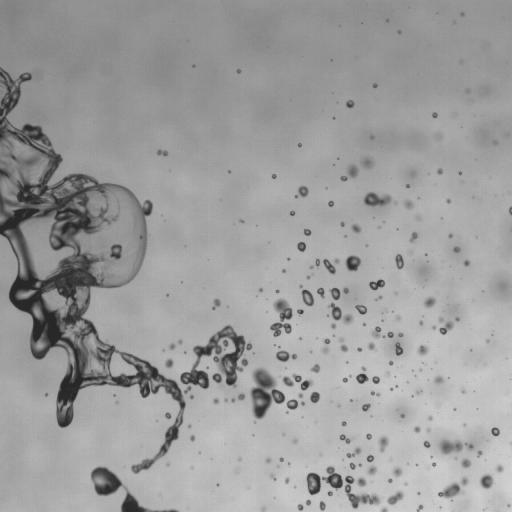droplet: (276, 345, 297, 362), (340, 164, 359, 181), (438, 316, 454, 335), (328, 286, 349, 300), (345, 254, 361, 271), (386, 490, 404, 505), (479, 473, 494, 489), (355, 366, 369, 383), (368, 278, 385, 290), (377, 435, 389, 452), (360, 156, 375, 169), (294, 185, 308, 198), (339, 433, 354, 444), (423, 296, 436, 308), (416, 344, 429, 356), (395, 254, 404, 269), (309, 391, 320, 403), (411, 387, 424, 397), (296, 241, 307, 252), (391, 466, 402, 477), (5, 111, 16, 122), (404, 188, 415, 199), (394, 191, 405, 202), (335, 261, 346, 272), (288, 299, 299, 310), (269, 311, 280, 322), (21, 313, 32, 324), (184, 338, 195, 349), (328, 340, 339, 351), (403, 343, 414, 354), (48, 345, 59, 356), (312, 352, 323, 363), (242, 365, 253, 376), (267, 366, 278, 377), (55, 367, 66, 378), (424, 380, 435, 391), (49, 382, 60, 393), (225, 385, 236, 396), (76, 387, 87, 398), (283, 387, 294, 398), (242, 397, 253, 408), (354, 435, 365, 446), (368, 438, 379, 449), (429, 443, 440, 454), (459, 447, 470, 458), (433, 450, 444, 461), (337, 466, 348, 477), (469, 475, 480, 486), (297, 482, 308, 493), (350, 483, 361, 494), (361, 484, 372, 495), (114, 488, 125, 499), (315, 489, 326, 500), (378, 489, 389, 500), (355, 304, 367, 314), (310, 363, 321, 373), (433, 374, 444, 384), (395, 342, 403, 355), (433, 131, 443, 141), (403, 199, 413, 209), (367, 342, 377, 352), (461, 458, 471, 468), (409, 232, 418, 243), (164, 358, 173, 369), (212, 298, 220, 310), (351, 224, 361, 233), (490, 427, 500, 436), (316, 287, 324, 298), (495, 464, 504, 473), (19, 81, 28, 90), (362, 148, 371, 157), (366, 149, 375, 158), (356, 165, 365, 174), (46, 177, 55, 186), (407, 207, 416, 216), (449, 237, 458, 246), (456, 251, 465, 260), (6, 274, 15, 283), (384, 312, 393, 321), (444, 313, 453, 322), (208, 326, 217, 335), (199, 337, 208, 346), (373, 337, 382, 346), (347, 343, 356, 352), (165, 349, 174, 358), (157, 365, 166, 374), (363, 379, 372, 388), (275, 381, 284, 390), (130, 383, 139, 392), (190, 383, 199, 392), (114, 384, 123, 393), (303, 387, 312, 396), (367, 395, 376, 404), (418, 431, 427, 440), (447, 434, 456, 443), (458, 434, 467, 443), (370, 436, 379, 445), (345, 443, 354, 452), (160, 453, 169, 462), (157, 455, 166, 464), (266, 462, 275, 471), (107, 463, 116, 472), (460, 467, 469, 476), (114, 469, 123, 478), (318, 469, 327, 478), (350, 469, 359, 478), (490, 471, 499, 480), (320, 481, 329, 490), (311, 493, 320, 502), (452, 493, 461, 502), (137, 498, 146, 507), (379, 498, 388, 507), (156, 149, 167, 156), (318, 500, 325, 511), (346, 99, 354, 108), (371, 376, 380, 384), (308, 505, 319, 511), (355, 505, 366, 511), (368, 505, 379, 511), (387, 505, 398, 511), (303, 228, 311, 236), (362, 403, 370, 411), (422, 440, 430, 448), (269, 472, 276, 481), (297, 309, 304, 317), (283, 476, 290, 484), (297, 503, 304, 511), (436, 168, 443, 175), (463, 259, 470, 266), (212, 397, 219, 404), (164, 412, 171, 419), (413, 426, 420, 433), (349, 462, 356, 469), (416, 504, 423, 511), (11, 73, 18, 80), (15, 122, 22, 129), (73, 167, 80, 174), (346, 176, 353, 183), (359, 190, 366, 197), (376, 191, 383, 198), (390, 193, 397, 200), (409, 195, 416, 202), (137, 196, 144, 203), (397, 201, 404, 208), (373, 203, 380, 210), (355, 219, 362, 226), (344, 223, 351, 230), (347, 229, 354, 236), (299, 234, 306, 241), (145, 238, 152, 245), (407, 242, 414, 249), (144, 248, 151, 255), (89, 285, 96, 292), (323, 289, 330, 296), (423, 291, 430, 298), (312, 292, 319, 299), (273, 293, 280, 300), (333, 299, 340, 306), (299, 302, 306, 309), (9, 304, 16, 311), (429, 304, 436, 311), (336, 318, 343, 325), (92, 320, 99, 327), (216, 323, 223, 330), (367, 324, 374, 331), (380, 327, 387, 334), (367, 335, 374, 342), (391, 335, 398, 342), (243, 336, 250, 343), (175, 344, 182, 351), (361, 344, 368, 351), (190, 353, 197, 360), (421, 353, 428, 360), (391, 354, 398, 361), (149, 359, 156, 366), (184, 365, 191, 372), (430, 370, 437, 377), (365, 371, 372, 378), (220, 373, 227, 380), (207, 377, 214, 384), (293, 381, 300, 388), (177, 382, 184, 389), (436, 382, 443, 389), (371, 383, 378, 390), (158, 386, 165, 393), (244, 392, 251, 399), (181, 393, 188, 400), (172, 400, 179, 407), (269, 400, 276, 407), (170, 411, 177, 418), (50, 417, 57, 424), (167, 418, 174, 425), (69, 419, 76, 426), (426, 420, 433, 427), (67, 422, 74, 429), (64, 424, 71, 431), (177, 425, 184, 432), (339, 426, 346, 433), (384, 431, 391, 438), (158, 436, 165, 443), (170, 439, 177, 446), (153, 444, 160, 451), (449, 449, 456, 456), (146, 452, 153, 459), (351, 456, 358, 463), (134, 457, 141, 464), (454, 459, 461, 466), (98, 460, 105, 467), (391, 460, 398, 467), (363, 461, 370, 468), (89, 462, 96, 469), (149, 463, 156, 470), (400, 465, 407, 472), (139, 468, 146, 475), (475, 472, 482, 479), (363, 474, 370, 481), (277, 475, 284, 482), (454, 477, 461, 484), (87, 482, 94, 489), (475, 482, 482, 489), (489, 483, 496, 490), (437, 484, 444, 491), (337, 486, 344, 493), (400, 486, 407, 493), (89, 488, 96, 495), (388, 489, 395, 496), (304, 492, 311, 499), (439, 495, 446, 502), (344, 499, 351, 506), (357, 501, 364, 508), (385, 503, 392, 510), (374, 295, 382, 301), (113, 506, 122, 511), (302, 506, 311, 511), (328, 200, 334, 207), (453, 246, 460, 252), (381, 308, 388, 314), (395, 314, 401, 321), (460, 387, 466, 394), (435, 402, 441, 409), (265, 456, 271, 463), (380, 506, 388, 511), (415, 214, 421, 220), (384, 371, 390, 377), (427, 415, 433, 421), (366, 433, 372, 439), (292, 438, 298, 444), (234, 467, 240, 473), (0, 214, 4, 223), (190, 434, 195, 441), (477, 450, 482, 457), (327, 489, 332, 496), (432, 112, 437, 118), (289, 210, 295, 215), (407, 250, 413, 255), (305, 499, 310, 505), (351, 507, 358, 511), (236, 68, 241, 73), (465, 88, 470, 93), (446, 198, 451, 203), (340, 221, 345, 226), (448, 233, 453, 238), (281, 268, 286, 273), (454, 316, 459, 321), (398, 332, 403, 337), (485, 338, 490, 343), (357, 347, 362, 352), (388, 360, 393, 365), (342, 377, 347, 382), (44, 392, 49, 397), (189, 394, 194, 399), (400, 413, 405, 418), (341, 421, 346, 426), (387, 478, 392, 483), (260, 506, 265, 511), (30, 74, 35, 79), (343, 96, 348, 101), (17, 97, 22, 102), (341, 102, 346, 107), (22, 119, 27, 124), (41, 128, 46, 133), (160, 146, 165, 151), (152, 147, 157, 152), (54, 148, 59, 153), (60, 153, 65, 158), (158, 153, 163, 158), (436, 163, 441, 168), (432, 167, 437, 172), (441, 167, 446, 172), (342, 171, 347, 176), (438, 173, 443, 178), (97, 178, 102, 183), (109, 178, 114, 183), (114, 179, 119, 184), (117, 180, 122, 185), (297, 181, 302, 186), (302, 181, 307, 186), (123, 182, 128, 187), (127, 185, 132, 190), (306, 185, 311, 190), (368, 187, 373, 192), (293, 189, 298, 194), (133, 191, 138, 196), (306, 191, 311, 196), (446, 193, 451, 198), (297, 194, 302, 199), (449, 196, 454, 201), (149, 197, 154, 202), (359, 198, 364, 203), (366, 204, 371, 209), (150, 208, 155, 213), (504, 210, 509, 215), (144, 214, 149, 219), (305, 224, 310, 229), (416, 232, 421, 237), (406, 233, 411, 238), (414, 237, 419, 242), (454, 241, 459, 246), (292, 243, 297, 248), (295, 249, 300, 254), (452, 251, 457, 256), (465, 255, 470, 260), (142, 257, 147, 262), (459, 257, 464, 262), (329, 259, 334, 264), (141, 260, 146, 265), (310, 260, 315, 265), (391, 260, 396, 265), (319, 262, 324, 267), (459, 262, 464, 267), (356, 265, 361, 270), (464, 265, 469, 270), (323, 268, 328, 273), (137, 269, 142, 274), (349, 269, 354, 274), (133, 275, 138, 280), (372, 277, 377, 282), (129, 279, 134, 284), (302, 284, 307, 289), (365, 285, 370, 290), (113, 286, 118, 291), (347, 286, 352, 291), (376, 286, 381, 291), (338, 287, 343, 292), (257, 291, 262, 296), (339, 291, 344, 296), (297, 292, 302, 297), (88, 298, 93, 303), (219, 299, 224, 304), (356, 300, 361, 305), (209, 301, 214, 306), (215, 305, 220, 310), (327, 306, 332, 311), (291, 309, 296, 314), (340, 310, 345, 315), (390, 312, 395, 317), (456, 312, 461, 317), (381, 313, 386, 318), (377, 314, 382, 319), (421, 317, 426, 322), (330, 318, 335, 323), (452, 320, 457, 325), (229, 321, 234, 326), (279, 326, 284, 331), (330, 328, 335, 333), (434, 328, 439, 333), (446, 329, 451, 334), (235, 330, 240, 335), (392, 332, 397, 337), (485, 333, 490, 338), (327, 334, 332, 339), (98, 335, 103, 340), (488, 335, 493, 340), (172, 338, 177, 343), (108, 340, 113, 345), (343, 340, 348, 345), (421, 340, 426, 345), (320, 341, 325, 346), (327, 342, 332, 347), (414, 343, 419, 348), (114, 344, 119, 349), (164, 345, 169, 350), (280, 345, 285, 350), (250, 346, 255, 351), (126, 348, 131, 353), (368, 349, 373, 354), (287, 350, 292, 355), (339, 350, 344, 355), (295, 351, 300, 356), (27, 352, 32, 357), (139, 354, 144, 359), (295, 355, 300, 360), (287, 356, 292, 361), (32, 357, 37, 362), (35, 358, 40, 363), (172, 360, 177, 365), (279, 360, 284, 365), (309, 362, 314, 367), (318, 363, 323, 368), (318, 368, 323, 373), (358, 368, 363, 373), (413, 368, 418, 373), (234, 369, 239, 374), (295, 370, 300, 375), (374, 371, 379, 376), (441, 374, 446, 379), (207, 375, 212, 380), (300, 376, 305, 381), (429, 376, 434, 381), (234, 379, 239, 384), (103, 383, 108, 388), (96, 384, 101, 389), (227, 384, 232, 389), (464, 386, 469, 391), (204, 387, 209, 392), (148, 391, 153, 396), (136, 392, 141, 397), (166, 392, 171, 397), (233, 393, 238, 398), (318, 394, 323, 399), (413, 394, 418, 399), (208, 397, 213, 402), (218, 397, 223, 402), (296, 397, 301, 402), (234, 398, 239, 403), (362, 399, 367, 404), (281, 400, 286, 405), (184, 402, 189, 407), (213, 403, 218, 408), (296, 403, 301, 408), (357, 403, 362, 408), (367, 406, 372, 411), (288, 408, 293, 413), (399, 408, 404, 413), (427, 410, 432, 415), (395, 411, 400, 416), (423, 413, 428, 418), (432, 415, 437, 420), (415, 421, 420, 426), (345, 422, 350, 427), (409, 425, 414, 430), (419, 427, 424, 432), (412, 431, 417, 436), (344, 433, 349, 438), (194, 435, 199, 440), (428, 439, 433, 444), (384, 445, 389, 450), (348, 448, 353, 453), (260, 457, 265, 462), (347, 457, 352, 462), (430, 457, 435, 462), (274, 458, 279, 463), (282, 459, 287, 464), (353, 460, 358, 465), (498, 460, 503, 465), (235, 461, 240, 466), (328, 461, 333, 466), (367, 461, 372, 466), (354, 465, 359, 470), (502, 466, 507, 471), (312, 468, 317, 473), (333, 468, 338, 473), (302, 472, 307, 477), (324, 472, 329, 477), (390, 474, 395, 479), (340, 475, 345, 480), (288, 479, 293, 484), (302, 480, 307, 485), (329, 486, 334, 491), (343, 494, 348, 499), (395, 499, 400, 504), (301, 501, 306, 506), (166, 504, 171, 509), (158, 505, 163, 510), (238, 219, 244, 223), (419, 320, 423, 326), (426, 427, 430, 433), (372, 83, 377, 87), (369, 135, 374, 139), (493, 140, 497, 145), (297, 142, 301, 147), (271, 174, 276, 178), (405, 184, 410, 188), (258, 288, 263, 292), (432, 325, 436, 330), (237, 456, 241, 461), (279, 457, 283, 462), (432, 462, 436, 467), (482, 507, 487, 511), (460, 12, 464, 16), (385, 18, 389, 22), (397, 30, 401, 34), (458, 171, 462, 175), (275, 289, 279, 293), (362, 322, 366, 326), (298, 337, 302, 341), (389, 387, 393, 391), (349, 398, 353, 402), (462, 423, 466, 427), (187, 424, 191, 428), (281, 432, 285, 436), (166, 462, 170, 466), (358, 463, 362, 467), (403, 481, 407, 485), (292, 484, 296, 488), (507, 507, 511, 511), (204, 366, 209, 369), (255, 508, 260, 511), (264, 508, 269, 511), (316, 508, 321, 511), (322, 508, 327, 511), (419, 508, 424, 511), (439, 508, 444, 511), (228, 169, 231, 173), (343, 234, 347, 237), (286, 257, 290, 260), (394, 291, 397, 295), (166, 293, 169, 297), (162, 348, 165, 352), (184, 350, 187, 354), (419, 368, 423, 371), (348, 374, 351, 378), (115, 400, 118, 404), (389, 457, 392, 461), (454, 456, 457, 460), (190, 465, 193, 469), (417, 491, 420, 495), (507, 504, 511, 507), (0, 233, 2, 238), (192, 64, 195, 67), (332, 116, 335, 119), (382, 220, 385, 223), (365, 244, 368, 247), (226, 305, 229, 308), (265, 310, 268, 313), (332, 334, 335, 337), (309, 350, 312, 353), (284, 366, 287, 369), (395, 384, 398, 387), (453, 408, 456, 411), (251, 433, 254, 436), (198, 451, 201, 454), (319, 453, 322, 456), (430, 455, 433, 458), (415, 463, 418, 466), (216, 483, 219, 486), (463, 11, 466, 14), (384, 21, 387, 24), (394, 31, 397, 34), (190, 61, 193, 64), (194, 62, 197, 65), (188, 64, 191, 67), (191, 67, 194, 70), (239, 67, 242, 70), (4, 68, 7, 71), (233, 70, 236, 73), (375, 81, 378, 84), (369, 84, 372, 87), (372, 87, 375, 90), (345, 106, 348, 109), (434, 109, 437, 112), (334, 114, 337, 117), (429, 114, 432, 117), (436, 114, 439, 117), (329, 117, 332, 120), (334, 117, 337, 120), (432, 117, 435, 120), (371, 132, 374, 135), (294, 143, 297, 146), (301, 143, 304, 146), (298, 146, 301, 149), (167, 151, 170, 154), (163, 155, 166, 158), (338, 155, 341, 158), (336, 159, 339, 162), (331, 165, 334, 168), (459, 168, 462, 171), (230, 169, 233, 172), (224, 170, 227, 173), (272, 170, 275, 173), (461, 171, 464, 174), (455, 172, 458, 175), (268, 174, 271, 177), (275, 176, 278, 179), (271, 178, 274, 181), (343, 180, 346, 183), (405, 180, 408, 183), (408, 182, 411, 185), (402, 183, 405, 186), (327, 186, 330, 189), (406, 187, 409, 190), (417, 193, 420, 196), (291, 195, 294, 198), (329, 197, 332, 200), (325, 199, 328, 202), (445, 202, 448, 205), (448, 202, 451, 205), (325, 203, 328, 206), (331, 205, 334, 208), (506, 206, 509, 209), (286, 211, 289, 214), (293, 213, 296, 216), (288, 214, 291, 217), (240, 216, 243, 219), (239, 222, 242, 225), (379, 222, 382, 225), (337, 223, 340, 226), (395, 224, 398, 227), (341, 226, 344, 229), (398, 226, 401, 229), (300, 229, 303, 232), (395, 230, 398, 233), (310, 231, 313, 234), (445, 233, 448, 236), (451, 235, 454, 238), (343, 237, 346, 240), (450, 246, 453, 249), (304, 247, 307, 250), (9, 248, 12, 251), (426, 251, 429, 254), (421, 252, 424, 255), (12, 254, 15, 257), (286, 254, 289, 257), (424, 255, 427, 258), (284, 258, 287, 261), (288, 259, 291, 262), (281, 265, 284, 268), (402, 265, 405, 268), (278, 268, 281, 271), (285, 268, 288, 271), (281, 272, 284, 275), (307, 272, 310, 275), (309, 275, 312, 278), (303, 276, 306, 279), (380, 276, 383, 279), (179, 277, 182, 280), (179, 283, 182, 286), (259, 284, 262, 287), (319, 284, 322, 287), (316, 285, 319, 288), (274, 286, 277, 289), (329, 286, 332, 289), (255, 287, 258, 290), (262, 287, 265, 290), (272, 289, 275, 292), (163, 291, 166, 294), (168, 293, 171, 296), (381, 296, 384, 299), (377, 298, 380, 301), (366, 308, 369, 311), (211, 309, 214, 312), (355, 309, 358, 312), (388, 309, 391, 312), (302, 311, 305, 314), (383, 311, 386, 314), (359, 313, 362, 316), (419, 316, 422, 319), (416, 322, 419, 325), (378, 324, 381, 327), (362, 325, 365, 328), (389, 328, 392, 331), (399, 329, 402, 332), (489, 330, 492, 333), (492, 331, 495, 334), (402, 332, 405, 335), (276, 335, 279, 338), (301, 335, 304, 338), (323, 335, 326, 338), (379, 335, 382, 338), (296, 338, 299, 341), (299, 339, 302, 342), (482, 340, 485, 343), (489, 340, 492, 343), (250, 341, 253, 344), (358, 344, 361, 347), (399, 344, 402, 347), (392, 345, 395, 348), (468, 345, 471, 348), (471, 347, 474, 350), (277, 348, 280, 351), (354, 348, 357, 351), (402, 348, 405, 351), (359, 350, 362, 353), (469, 351, 472, 354), (181, 352, 184, 355), (307, 352, 310, 355), (399, 353, 402, 356), (392, 362, 395, 365), (345, 363, 348, 366), (386, 363, 389, 366), (420, 363, 423, 366), (363, 364, 366, 367), (408, 369, 411, 372), (447, 373, 450, 376), (390, 374, 393, 377), (395, 375, 398, 378), (411, 375, 414, 378), (346, 376, 349, 379), (339, 377, 342, 380), (447, 378, 450, 381), (378, 380, 381, 383), (341, 381, 344, 384), (344, 381, 347, 384), (397, 383, 400, 386), (391, 384, 394, 387), (422, 388, 425, 391), (374, 390, 377, 393), (389, 390, 392, 393), (367, 391, 370, 394), (41, 392, 44, 395), (459, 392, 462, 395), (372, 394, 375, 397), (378, 395, 381, 398), (113, 396, 116, 399), (351, 396, 354, 399), (410, 397, 413, 400), (352, 399, 355, 402), (349, 401, 352, 404), (231, 402, 234, 405), (452, 404, 455, 407), (475, 404, 478, 407), (286, 407, 289, 410), (359, 407, 362, 410), (455, 408, 458, 411), (362, 410, 365, 413), (452, 410, 455, 413), (162, 411, 165, 414), (404, 414, 407, 417), (400, 417, 403, 420), (345, 420, 348, 423), (338, 421, 341, 424), (493, 424, 496, 427), (190, 425, 193, 428), (497, 426, 500, 429), (251, 430, 254, 433), (367, 430, 370, 433), (489, 432, 492, 435), (254, 433, 257, 436), (363, 434, 366, 437), (249, 435, 252, 438), (336, 435, 339, 438), (494, 435, 497, 438), (349, 440, 352, 443), (466, 440, 469, 443), (423, 446, 426, 449), (481, 450, 484, 453), (370, 452, 373, 455), (281, 454, 284, 457), (479, 454, 482, 457), (415, 460, 418, 463), (435, 461, 438, 464), (289, 463, 292, 466), (346, 463, 349, 466), (412, 463, 415, 466), (429, 464, 432, 467), (434, 465, 437, 468), (270, 478, 273, 481), (273, 480, 276, 483), (385, 480, 388, 483), (213, 481, 216, 484), (407, 482, 410, 485), (218, 483, 221, 486), (213, 484, 216, 487), (291, 487, 294, 490), (416, 488, 419, 491), (419, 490, 422, 493), (417, 494, 420, 497), (419, 501, 422, 504), (415, 505, 418, 508), (482, 505, 485, 508), (504, 505, 507, 508), (436, 507, 439, 510), (377, 226, 381, 228), (332, 164, 335, 166), (325, 186, 327, 189), (417, 197, 420, 199), (440, 217, 443, 219), (180, 281, 183, 283), (391, 310, 394, 312), (381, 319, 383, 322), (273, 344, 276, 346), (252, 352, 254, 355), (345, 361, 348, 363), (411, 369, 414, 371), (414, 375, 416, 378), (113, 394, 116, 396), (330, 400, 333, 402), (509, 502, 511, 505), (509, 505, 511, 508), (413, 509, 416, 511), (479, 509, 482, 511), (484, 509, 487, 511), (330, 59, 332, 61), (337, 157, 339, 159), (472, 196, 474, 198), (160, 213, 162, 215), (396, 228, 398, 230), (425, 253, 427, 255), (426, 260, 428, 262), (482, 290, 484, 292), (491, 333, 493, 335), (316, 337, 318, 339), (470, 349, 472, 351), (394, 375, 396, 377), (406, 381, 408, 383), (370, 415, 372, 417), (301, 416, 303, 418), (277, 465, 279, 467), (273, 497, 275, 499), (439, 506, 441, 508), (373, 216, 374, 218), (256, 295, 257, 297), (476, 408, 478, 409), (486, 440, 488, 441), (341, 459, 343, 460), (256, 225, 257, 226)
ligament: (269, 296, 293, 337), (437, 476, 469, 501), (438, 439, 474, 454), (363, 192, 397, 206), (299, 284, 315, 306), (224, 392, 246, 403), (366, 454, 377, 475), (167, 338, 182, 351), (345, 446, 361, 458), (321, 337, 330, 354), (338, 337, 348, 352), (370, 390, 380, 396), (306, 272, 313, 279), (508, 206, 511, 215), (421, 361, 427, 365), (336, 404, 340, 408), (509, 441, 511, 447), (288, 462, 290, 467), (451, 510, 455, 511)
